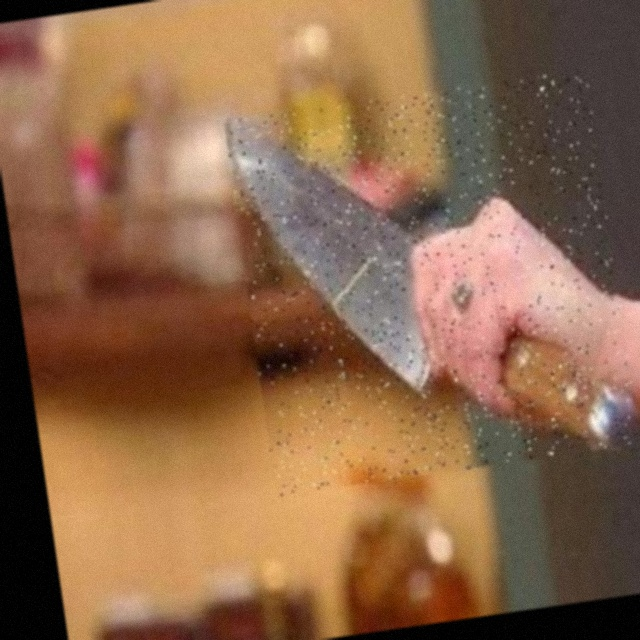Sharp-Object: (223, 70, 640, 496)
